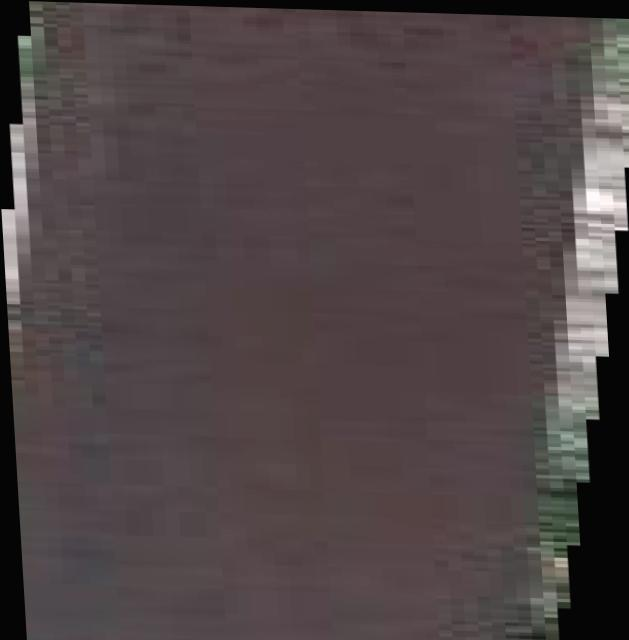Uniform Corrosion: (1, 1, 629, 640)
